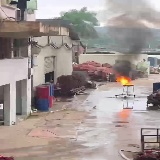fire: (116, 75, 133, 85)
